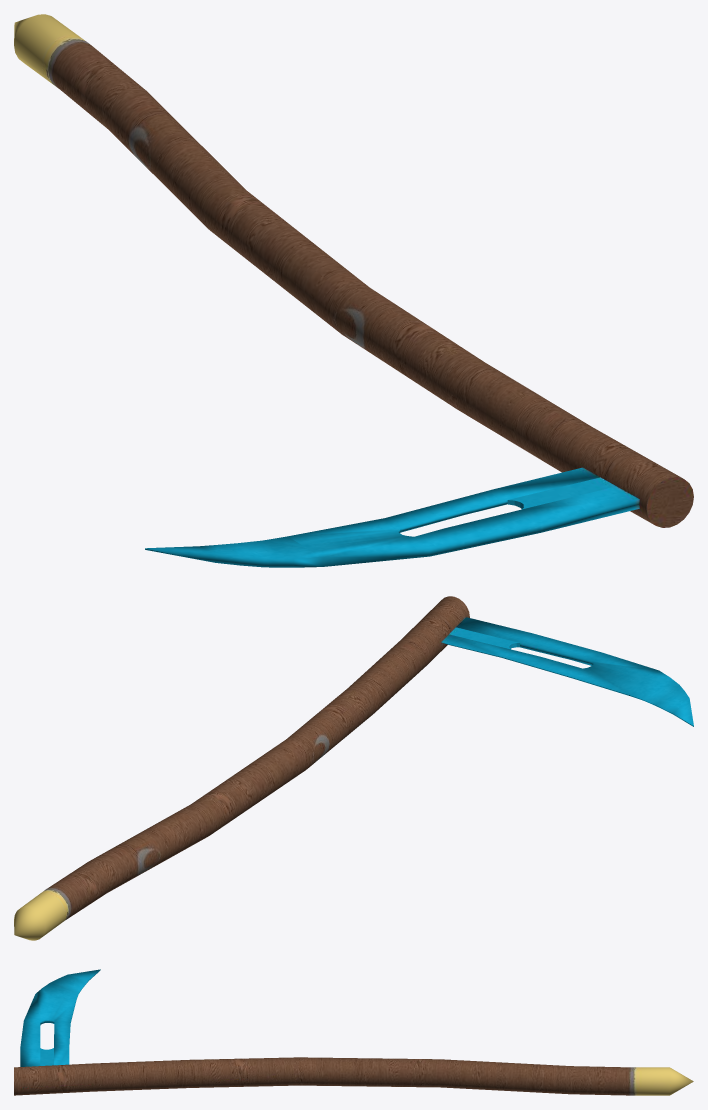
The model's file is Scythe.fbx.
3 renders of one model, top to bottom at view 1: azimuth 30°, elevation 25°; view 2: azimuth 150°, elevation 25°; view 3: azimuth 270°, elevation 25°, orthographic. The views are drawn at different scales.
Parts seen in each view (by area): view 1: Scythe; view 2: Scythe; view 3: Scythe.
Part boxes in pixels (bbox=[...]): Scythe: bbox=[14, 14, 693, 567]; Scythe: bbox=[14, 596, 693, 940]; Scythe: bbox=[14, 969, 693, 1095].
Bounding box in the file's own units: 94.15 × 9.61 × 230.
